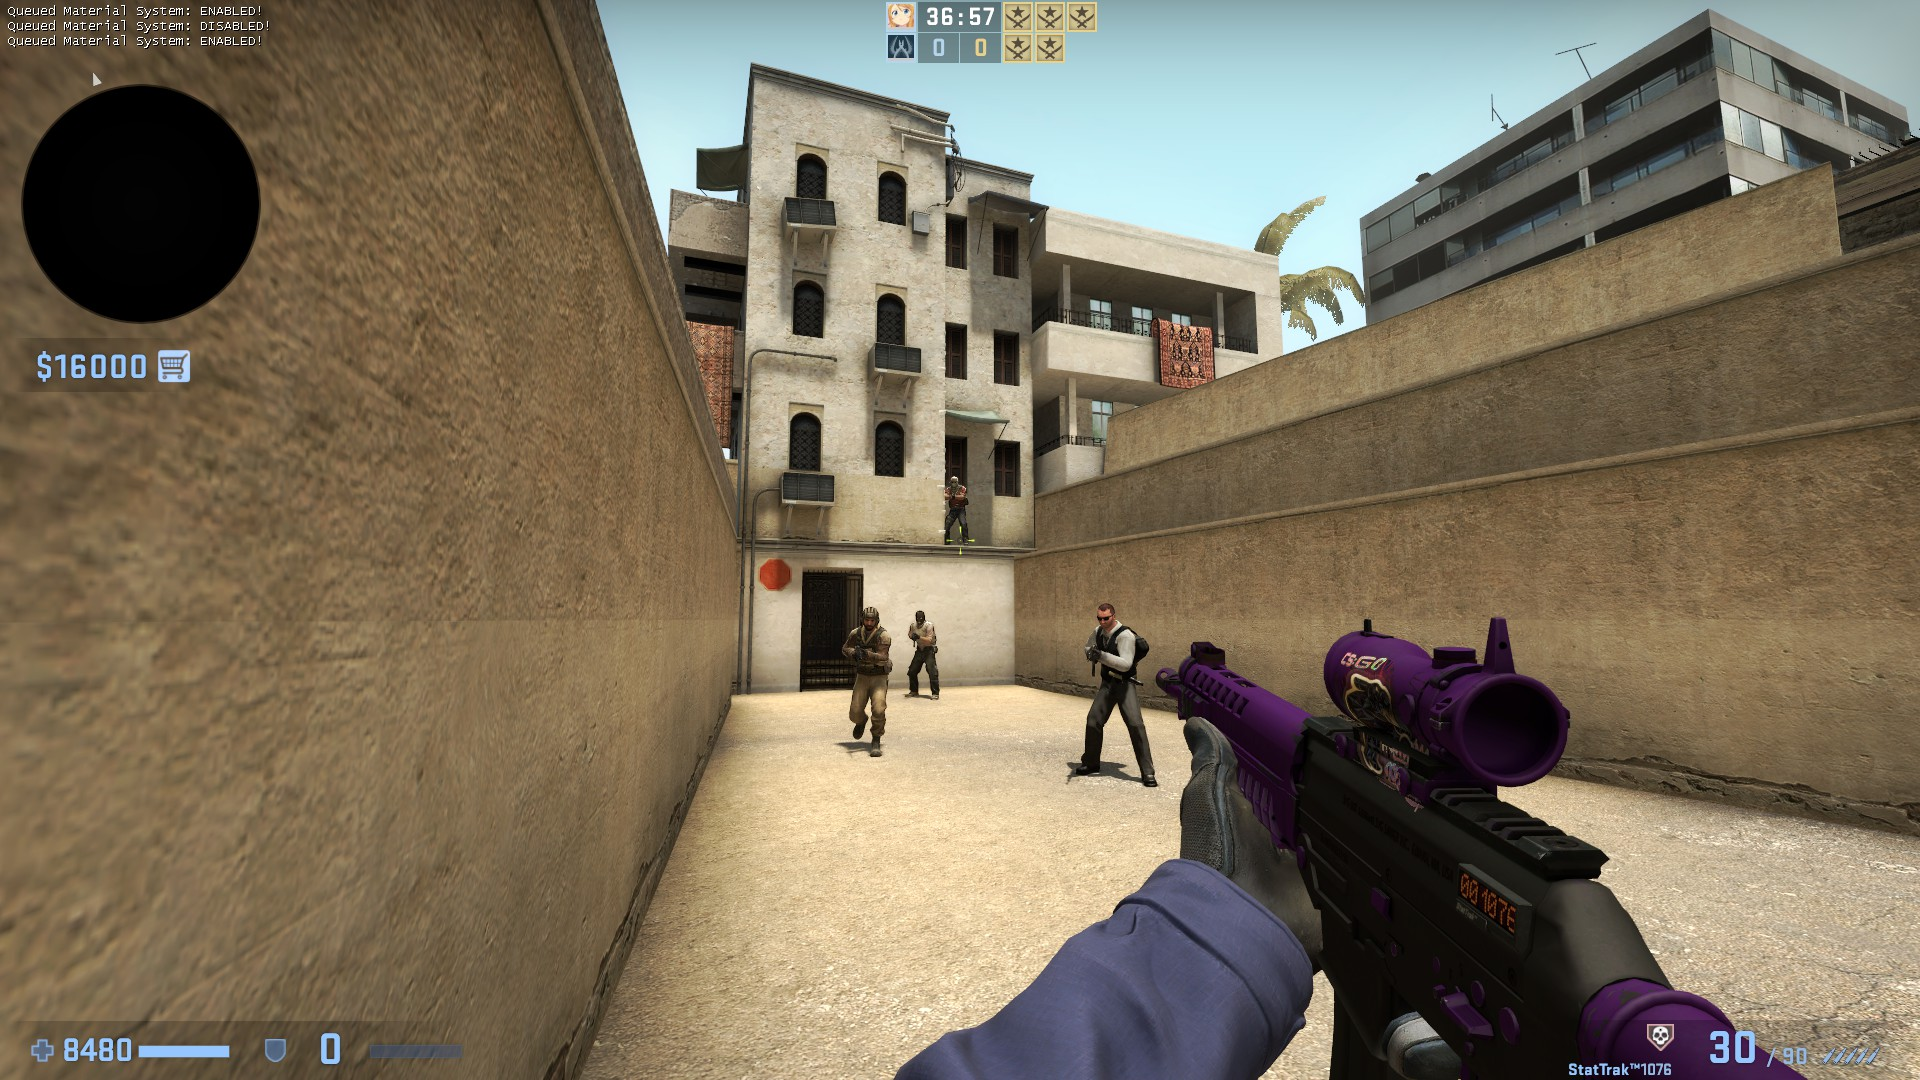head: (1094, 602, 1116, 629), (860, 606, 877, 629), (913, 610, 925, 626), (947, 475, 958, 488)
